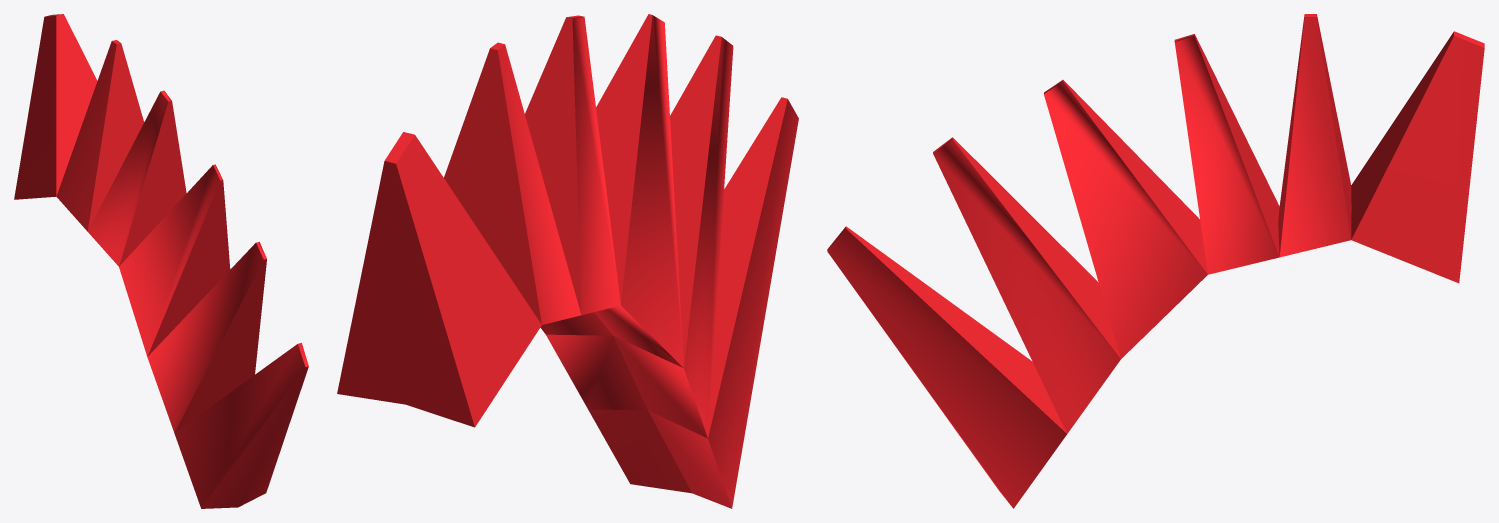
File: Mohawk_v.1.1.fbx
The picture shows the model from 3 angles, left to right: view 1: azimuth 30°, elevation 25°; view 2: azimuth 150°, elevation 25°; view 3: azimuth 270°, elevation 25°; orthographic projection. The views are drawn at different scales.
Visible parts, largest first — view 1: Cube.002; view 2: Cube.002; view 3: Cube.002.
Boxes of the visible parts, x1=… form: Cube.002: x1=14, y1=14, x2=308, y2=508; Cube.002: x1=337, y1=14, x2=798, y2=508; Cube.002: x1=827, y1=14, x2=1484, y2=508.
Bounding box in the file's own units: 0.1743 × 0.7067 × 0.8849.
